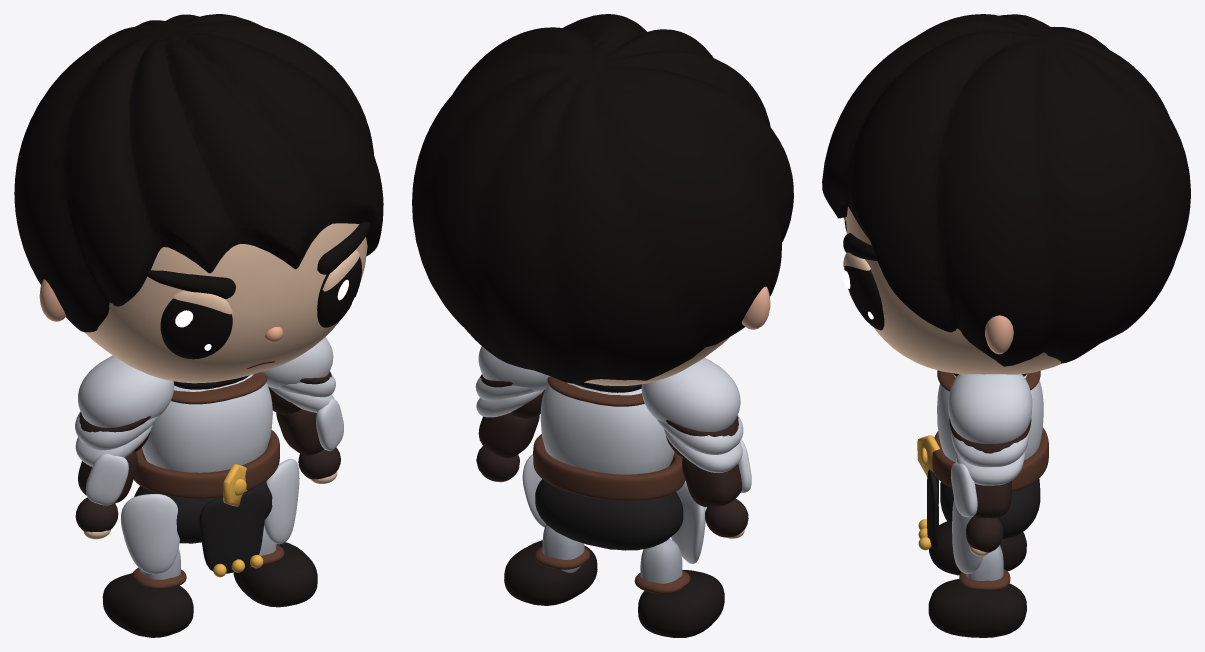
The model's file is chibi-knight.glb.
3 views of the same model, side by side, from view 1: azimuth 30°, elevation 25°; view 2: azimuth 150°, elevation 25°; view 3: azimuth 270°, elevation 25° (orthographic). The views are drawn at different scales.
Visible parts, largest first — view 1: CK_Hair, CK_Head, CK_Torso, CK_Pauldron_L, CK_Boot_L, CK_Apron, CK_Tasset_L, CK_Belt, CK_Boot_R, CK_Eye_L, CK_Tasset_R, CK_Pauldron_R (+20 smaller); view 2: CK_Hair, CK_Torso, CK_Pelvis, CK_Pauldron_L, CK_Belt, CK_Boot_L, CK_Boot_R, CK_Vambrace_R, CK_Vambrace_L, CK_Tasset_L, CK_Greave_L, CK_Pauldron_R (+13 smaller); view 3: CK_Hair, CK_Head, CK_Pauldron_R, CK_Boot_R, CK_Pelvis, CK_Torso, CK_Boot_L, CK_Belt, CK_Eye_R, CK_Lame1_R, CK_Tasset_R, CK_Vambrace_R (+9 smaller).
Part boxes in pixels (box(x1,y1,x2,y2)): CK_Hair: box(14, 14, 383, 332); CK_Head: box(85, 223, 367, 383); CK_Torso: box(142, 374, 272, 472); CK_Pauldron_L: box(78, 355, 174, 427); CK_Boot_L: box(102, 573, 193, 637); CK_Apron: box(199, 490, 265, 573); CK_Tasset_L: box(121, 494, 179, 574); CK_Belt: box(133, 430, 279, 498); CK_Boot_R: box(233, 542, 317, 607); CK_Eye_L: box(160, 298, 232, 359); CK_Tasset_R: box(264, 458, 299, 544); CK_Pauldron_R: box(261, 337, 333, 388); CK_Hair: box(412, 14, 793, 383); CK_Torso: box(540, 382, 674, 474); CK_Pelvis: box(535, 479, 683, 550); CK_Pauldron_L: box(641, 358, 740, 431); CK_Belt: box(533, 434, 685, 500); CK_Boot_L: box(638, 570, 724, 637); CK_Boot_R: box(504, 540, 597, 605); CK_Vambrace_R: box(478, 413, 539, 458); CK_Vambrace_L: box(682, 458, 741, 507); CK_Tasset_L: box(671, 480, 705, 563); CK_Greave_L: box(640, 538, 682, 591); CK_Pauldron_R: box(478, 346, 549, 391); CK_Hair: box(822, 14, 1190, 366); CK_Head: box(846, 206, 1061, 374); CK_Pauldron_R: box(948, 374, 1032, 443); CK_Boot_R: box(928, 579, 1026, 637); CK_Pelvis: box(940, 478, 1040, 539); CK_Torso: box(937, 374, 1043, 462); CK_Boot_L: box(929, 521, 1026, 575); CK_Belt: box(932, 427, 1048, 491); CK_Eye_R: box(844, 266, 884, 330); CK_Lame1_R: box(951, 431, 1029, 467); CK_Tasset_R: box(952, 499, 983, 574); CK_Vambrace_R: box(973, 481, 1011, 518).
Bounding box in the file's own units: 1.32 × 2.23 × 1.31.
